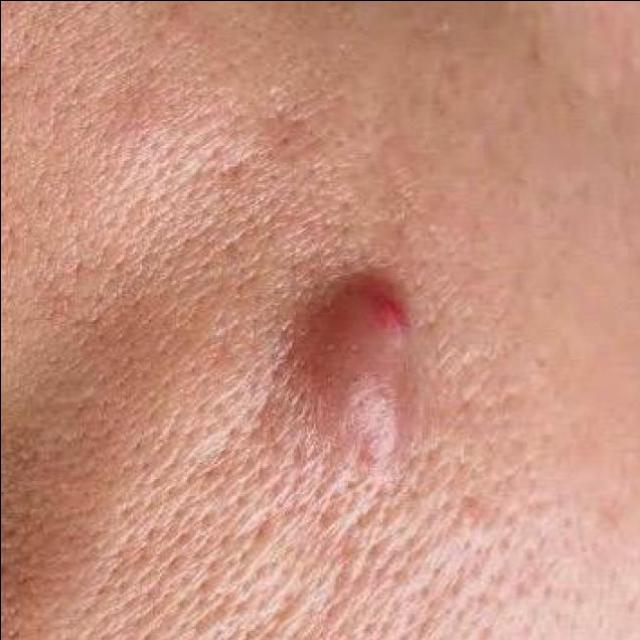nodule: (259, 236, 468, 504)
